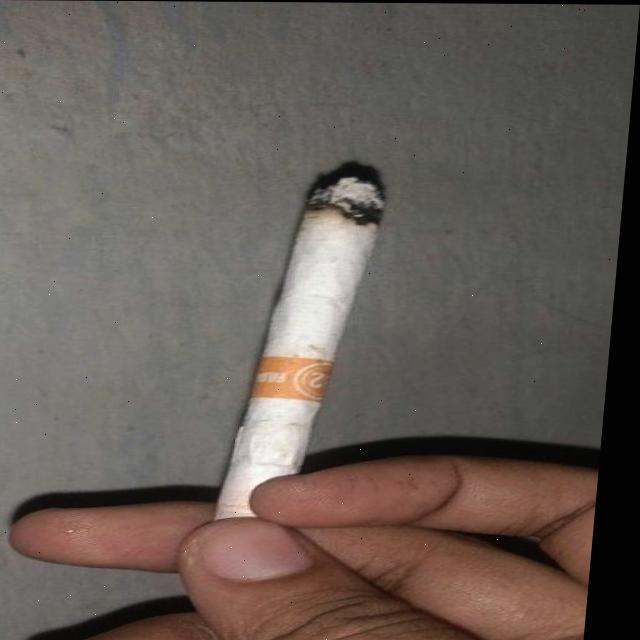cigarette: (223, 178, 388, 520)
